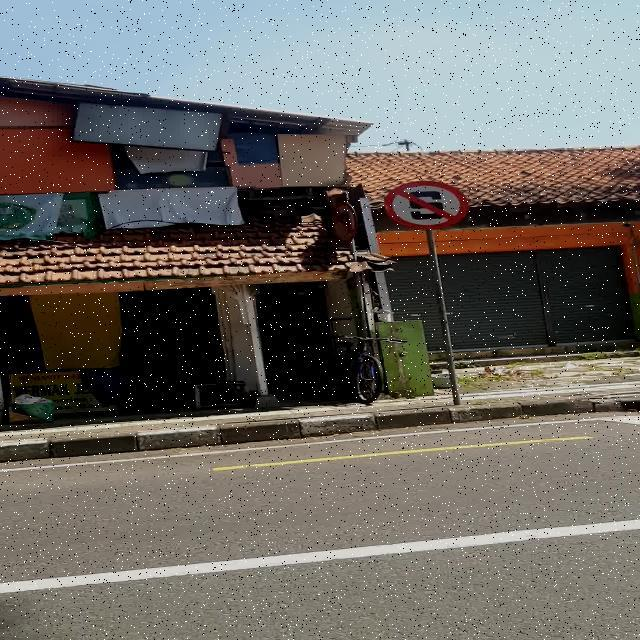Dilarang Berhenti: (384, 181, 468, 230)
